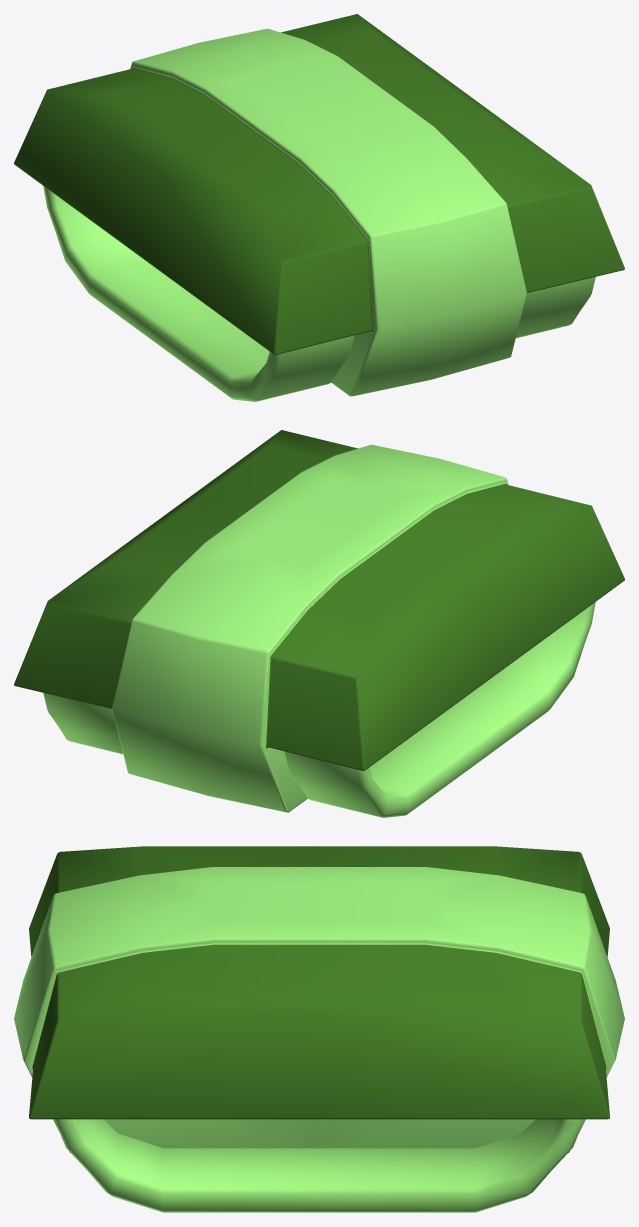
File: Debris_Tank.glb
3 renders of one model, top to bottom at view 1: azimuth 30°, elevation 25°; view 2: azimuth 150°, elevation 25°; view 3: azimuth 270°, elevation 25°, orthographic. The views are drawn at different scales.
Visible parts, largest first — view 1: TankBase.001, Treads.001; view 2: TankBase.001, Treads.001; view 3: TankBase.001, Treads.001.
Boxes of the visible parts, x1=… form: TankBase.001: x1=14, y1=14, x2=624, y2=396; Treads.001: x1=43, y1=186, x2=595, y2=401; TankBase.001: x1=14, y1=430, x2=624, y2=812; Treads.001: x1=43, y1=602, x2=595, y2=817; TankBase.001: x1=14, y1=846, x2=624, y2=1152; Treads.001: x1=55, y1=1119, x2=583, y2=1212.
Size of the model in its own units: 2.26 by 1.25 by 3.07.
